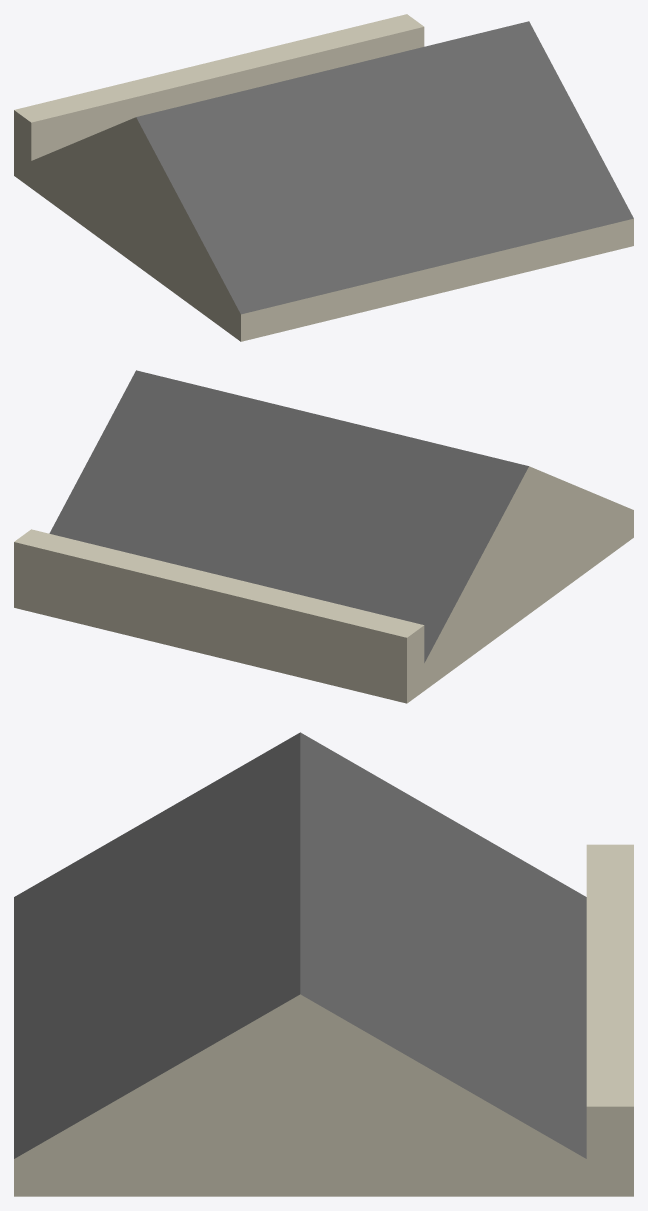
The model's file is Roof 27.FBX.
The picture shows the model from 3 angles, top to bottom: view 1: azimuth 30°, elevation 25°; view 2: azimuth 150°, elevation 25°; view 3: azimuth 270°, elevation 25°; orthographic projection. The views are drawn at different scales.
Parts seen in each view (by area): view 1: Group213; view 2: Group213; view 3: Group213.
Part boxes in pixels (x1,y1,x2,y2): Group213: [14, 14, 633, 341]; Group213: [14, 370, 633, 703]; Group213: [14, 732, 633, 1196].
Size of the model in its own units: 29.53 by 10.63 by 29.53.
